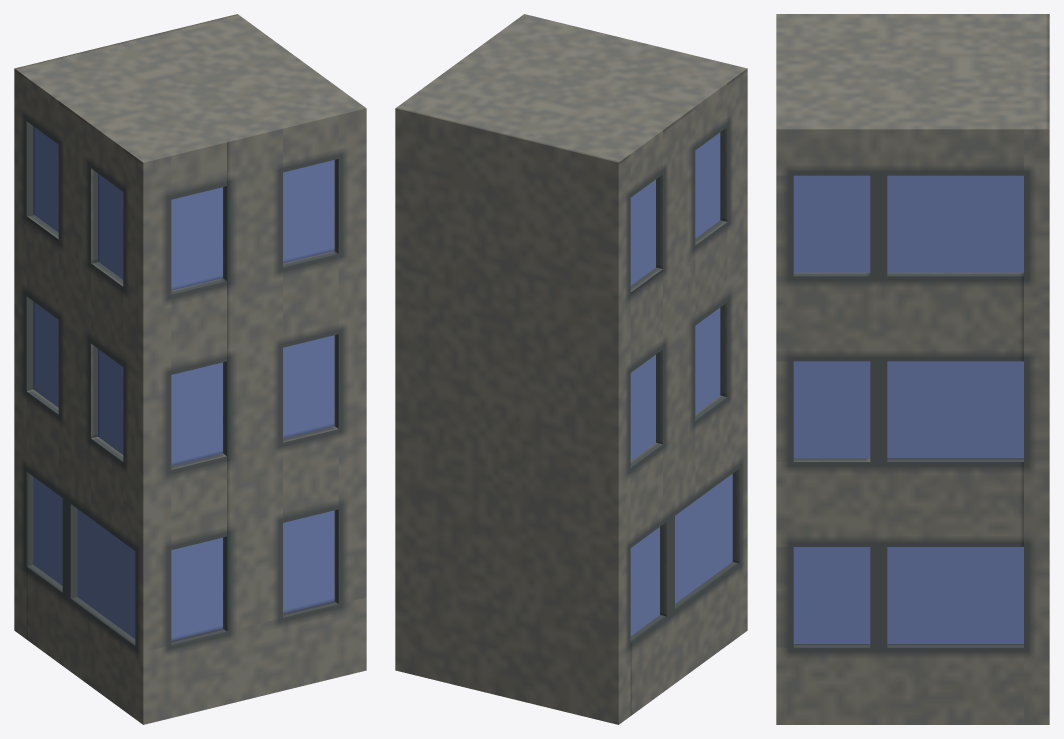
3 views of the same model, side by side, from view 1: azimuth 30°, elevation 25°; view 2: azimuth 150°, elevation 25°; view 3: azimuth 270°, elevation 25° (orthographic). The views are drawn at different scales.
Parts seen in each view (by area): view 1: Content; view 2: Content; view 3: Content.
Boxes of the visible parts, x1,y1,x2,y2 form: Content: [14, 14, 366, 724]; Content: [395, 14, 747, 724]; Content: [776, 14, 1049, 724].
Size of the model in its own units: 32 by 77 by 32.
Materials: 1 (1 with a texture image).
